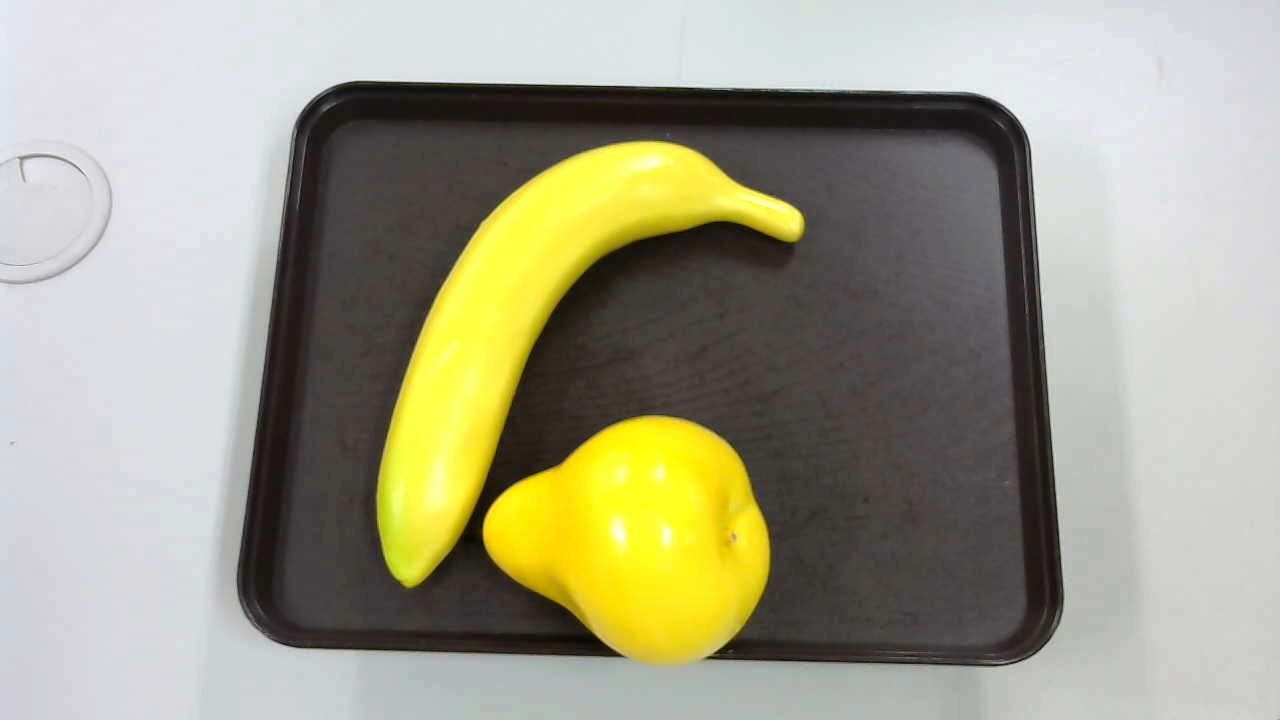banana: (375, 130, 810, 602)
yellow pear: (473, 411, 773, 674)
